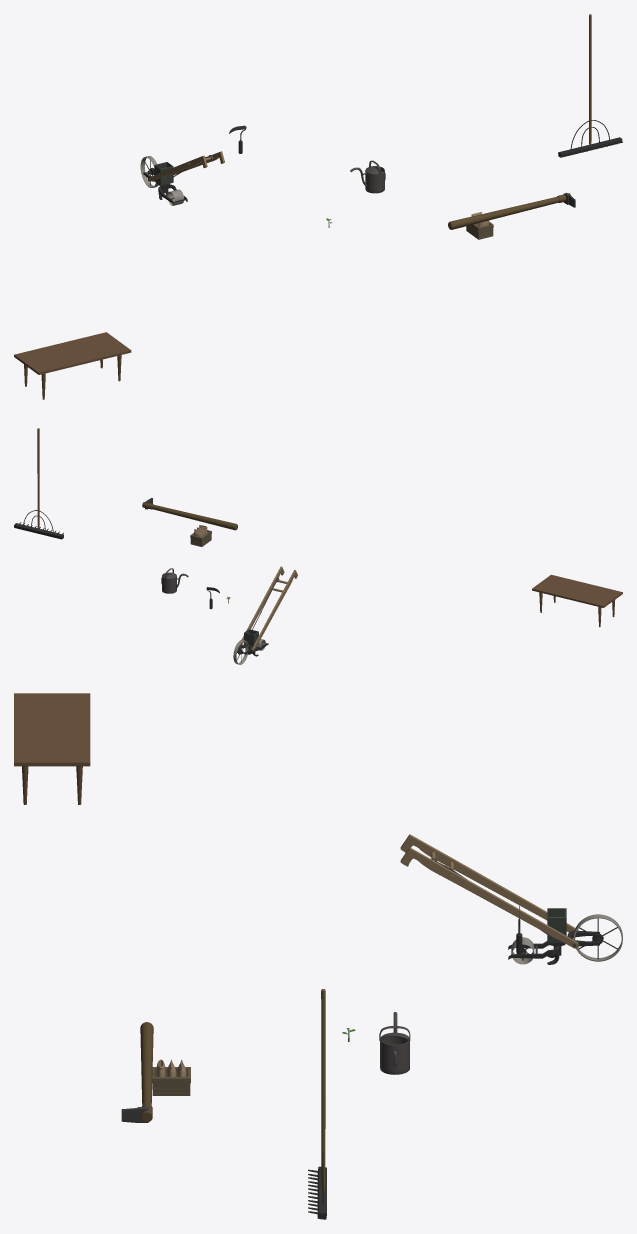
File: watering_can.glb
3 renders of one model, top to bottom at view 1: azimuth 30°, elevation 25°; view 2: azimuth 150°, elevation 25°; view 3: azimuth 270°, elevation 25°, orthographic. The views are drawn at different scales.
Parts seen in each view (by area): view 1: table, seeder, hoe, rake, watering can; view 2: table, seeder, rake, hoe, watering can, seed_bags; view 3: table, seeder, rake, hoe, watering can, seed_bags.
Part boxes in pixels (bbox=[...]): table: bbox=[14, 332, 131, 399]; seeder: bbox=[140, 151, 224, 205]; hoe: bbox=[448, 192, 575, 229]; rake: bbox=[558, 14, 622, 157]; watering can: bbox=[350, 160, 385, 193]; table: bbox=[532, 574, 622, 627]; seeder: bbox=[233, 566, 297, 664]; rake: bbox=[14, 428, 63, 539]; hoe: bbox=[142, 498, 237, 530]; watering can: bbox=[161, 568, 188, 593]; seed_bags: bbox=[190, 525, 211, 546]; table: bbox=[14, 693, 90, 804]; seeder: bbox=[400, 834, 622, 964]; rake: bbox=[308, 989, 326, 1219]; hoe: bbox=[121, 1022, 153, 1122]; watering can: bbox=[379, 1012, 410, 1074]; seed_bags: bbox=[152, 1059, 190, 1095].
Size of the model in its own units: 78.42 by 17.29 by 39.42.
